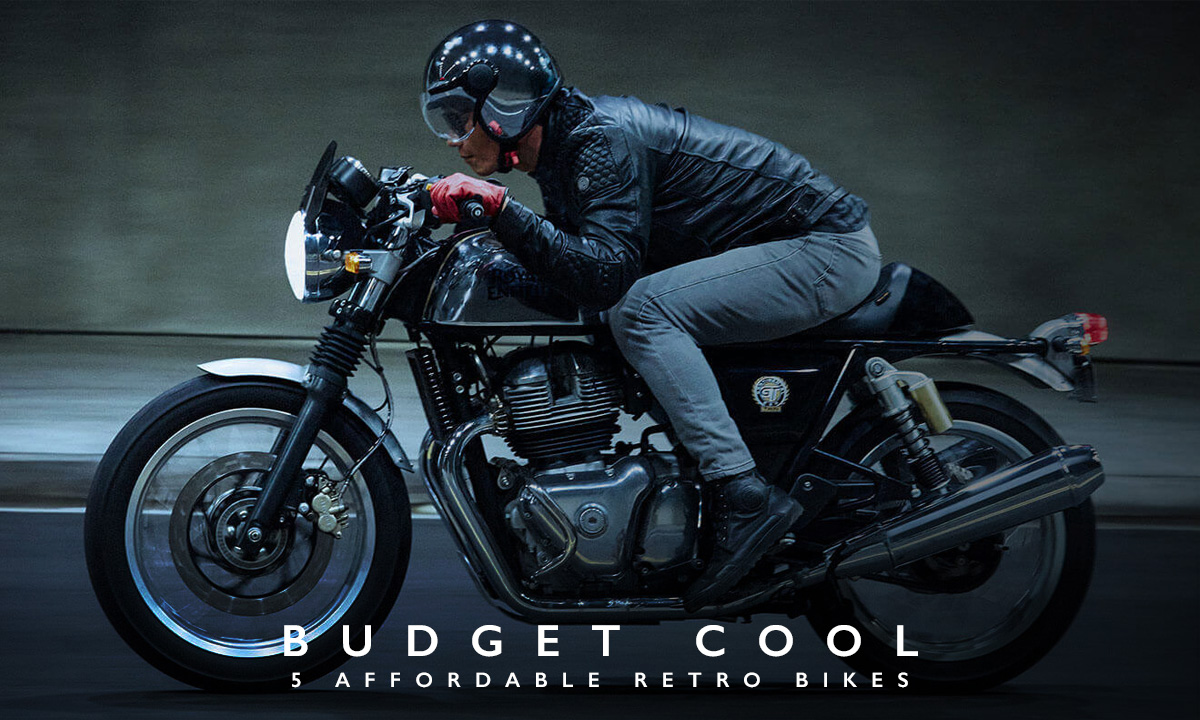with_helmet: (422, 15, 558, 155)
